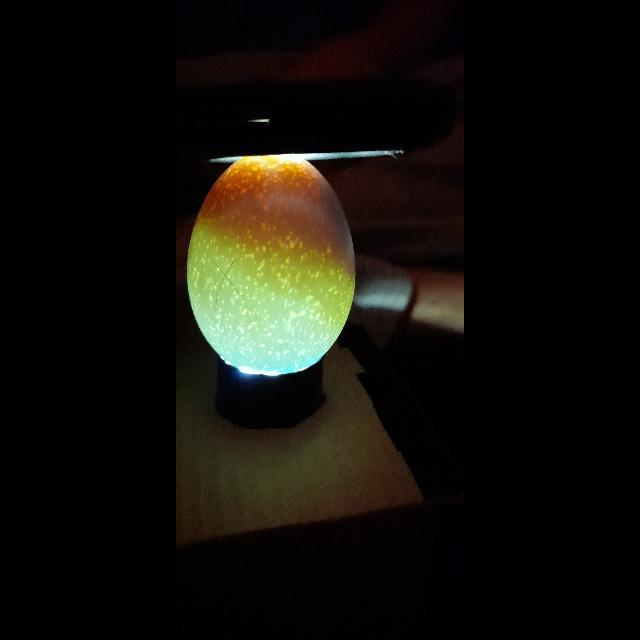Infertile: (180, 157, 364, 379)
